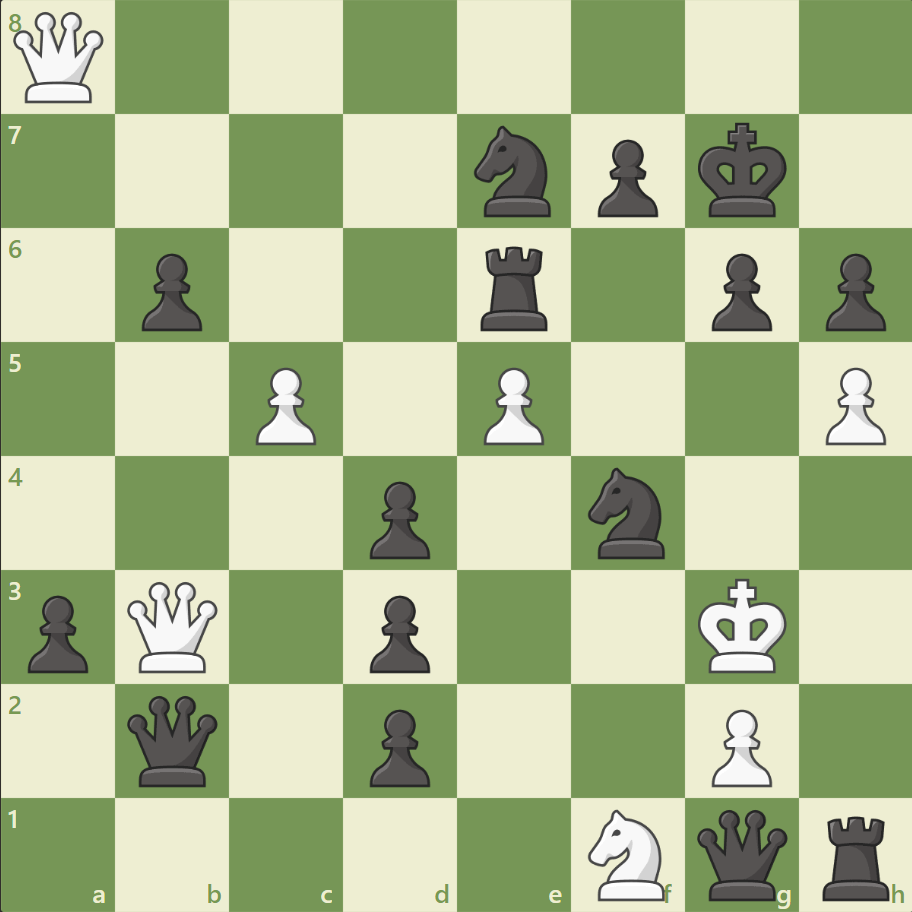K: (692, 571, 792, 679)
N: (579, 802, 676, 904)
P: (247, 359, 322, 450), (474, 359, 549, 450), (701, 700, 776, 791), (815, 359, 889, 450)
Q: (124, 576, 223, 676), (10, 9, 109, 108)
k: (692, 117, 792, 225)
n: (579, 461, 676, 564), (465, 121, 562, 223)
p: (133, 246, 208, 337), (701, 246, 776, 337), (20, 586, 95, 677), (588, 132, 662, 223), (815, 246, 889, 337), (361, 473, 435, 564), (361, 586, 435, 677), (361, 700, 435, 791)
q: (124, 690, 223, 789), (691, 804, 790, 903)
r: (814, 806, 897, 904), (473, 239, 556, 336)
